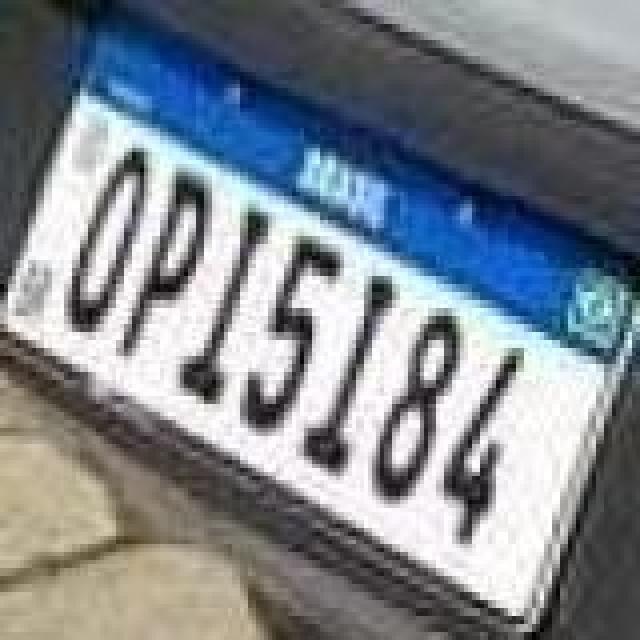4: (440, 348, 528, 548)
5: (232, 238, 344, 434)
8: (368, 308, 464, 508)
I: (300, 276, 404, 476), (176, 200, 272, 408)
O: (64, 144, 160, 336)
P: (112, 164, 216, 364)
